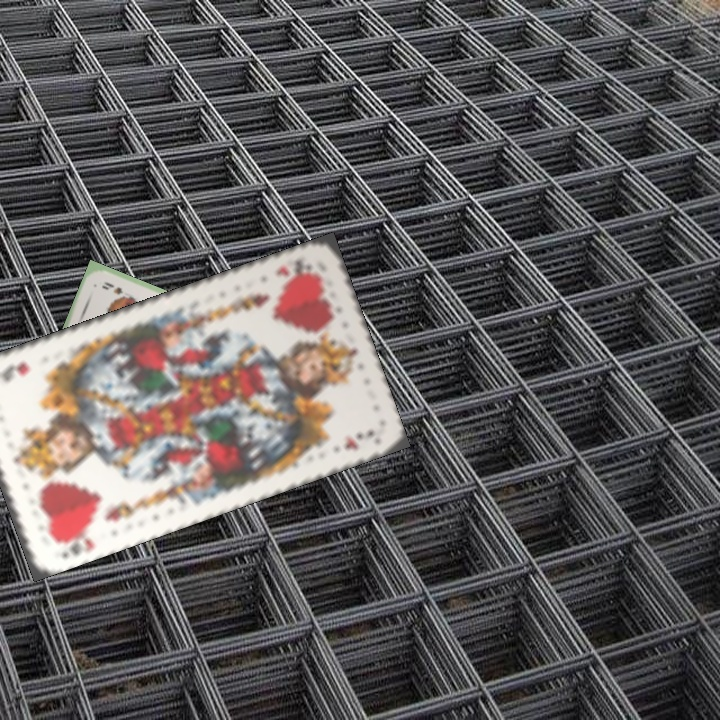HK: (50, 533, 97, 561), (271, 252, 314, 280)
